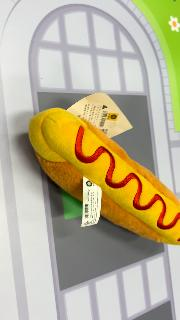hotdog: (28, 107, 180, 246)
